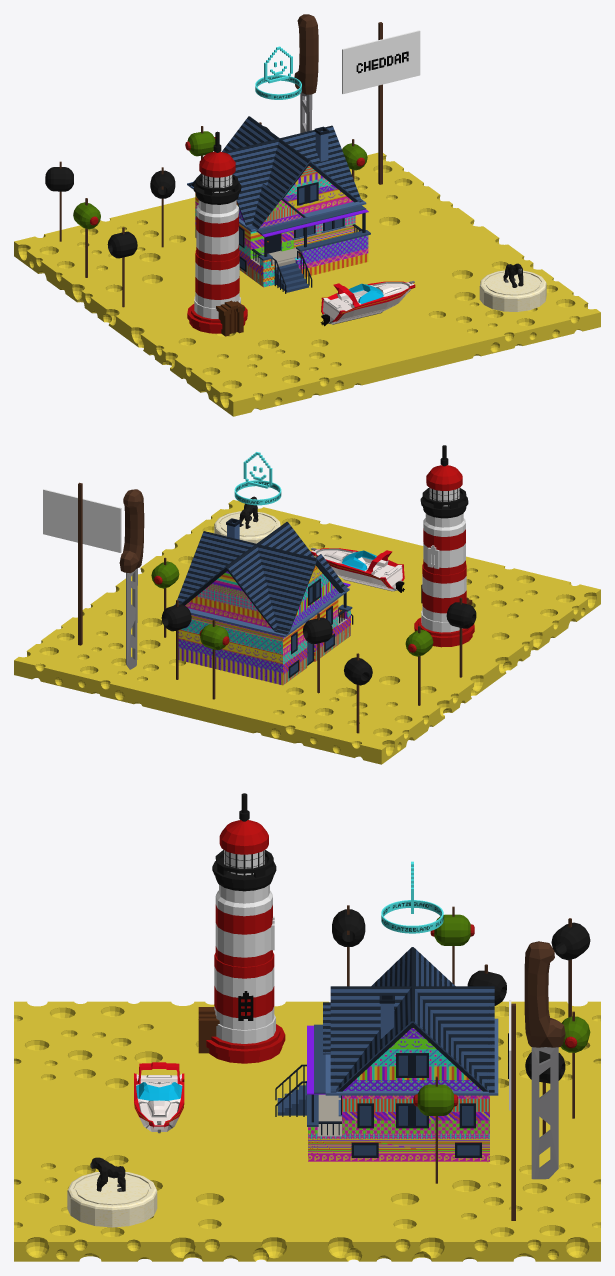
3 renders of one model, top to bottom at view 1: azimuth 30°, elevation 25°; view 2: azimuth 150°, elevation 25°; view 3: azimuth 270°, elevation 25°, orthographic. The views are drawn at different scales.
Visible parts, largest first — view 1: Cube.022, Cube.676, OBJRANDOM_LIGHTHOUSE, Cube.023, VEHICLES_BOAT, Cylinder.016, Cube.024, TYPE_PREMIUM, Sphere.017, Sphere.016, Sphere.020, Sphere.018 (+2 smaller); view 2: Cube.022, Cube.676, OBJRANDOM_LIGHTHOUSE, Cube.023, Cube.024, VEHICLES_BOAT, Cylinder.016, TYPE_PREMIUM, Sphere.017, Sphere.016, Sphere.022, Sphere.020 (+3 smaller); view 3: Cube.022, Cube.676, OBJRANDOM_LIGHTHOUSE, Cube.024, Cylinder.016, VEHICLES_BOAT, Sphere.019, Cube.023, Sphere.016, TYPE_PREMIUM, Sphere.018, Sphere.017 (+4 smaller).
Boxes of the visible parts, left/top/right/bottom form: Cube.022: left=14, top=152, right=600, bottom=416; Cube.676: left=187, top=116, right=370, bottom=293; OBJRANDOM_LIGHTHOUSE: left=187, top=131, right=247, bottom=336; Cube.023: left=342, top=22, right=420, bottom=184; VEHICLES_BOAT: left=320, top=281, right=415, bottom=326; Cylinder.016: left=479, top=270, right=546, bottom=311; Cube.024: left=294, top=14, right=318, bottom=133; TYPE_PREMIUM: left=255, top=46, right=301, bottom=99; Sphere.017: left=107, top=227, right=137, bottom=307; Sphere.016: left=45, top=161, right=73, bottom=241; Sphere.020: left=150, top=167, right=175, bottom=247; Sphere.018: left=73, top=198, right=100, bottom=277; Cube.022: left=14, top=500, right=600, bottom=764; Cube.676: left=174, top=518, right=353, bottom=685; OBJRANDOM_LIGHTHOUSE: left=414, top=445, right=474, bottom=647; Cube.023: left=43, top=482, right=121, bottom=645; Cube.024: left=119, top=489, right=144, bottom=669; VEHICLES_BOAT: left=310, top=547, right=404, bottom=592; Cylinder.016: left=214, top=511, right=280, bottom=543; TYPE_PREMIUM: left=234, top=452, right=281, bottom=505; Sphere.017: left=446, top=597, right=476, bottom=677; Sphere.016: left=344, top=653, right=372, bottom=733; Sphere.022: left=199, top=619, right=229, bottom=699; Sphere.020: left=303, top=613, right=332, bottom=693; Cube.022: left=14, top=1001, right=600, bottom=1261; Cube.676: left=275, top=947, right=498, bottom=1161; OBJRANDOM_LIGHTHOUSE: left=198, top=793, right=285, bottom=1063; Cube.024: left=524, top=941, right=565, bottom=1179; Cylinder.016: left=67, top=1172, right=157, bottom=1227; VEHICLES_BOAT: left=134, top=1062, right=184, bottom=1133; Sphere.019: left=413, top=1076, right=457, bottom=1183; Cube.023: left=508, top=1000, right=515, bottom=1220; Sphere.016: left=551, top=918, right=590, bottom=1017; TYPE_PREMIUM: left=381, top=861, right=443, bottom=933; Sphere.018: left=430, top=906, right=474, bottom=984; Sphere.017: left=332, top=905, right=365, bottom=986.
Bounding box in the file's own units: 3917 × 2227 × 4000.
Materials: 39 (8 with a texture image).
